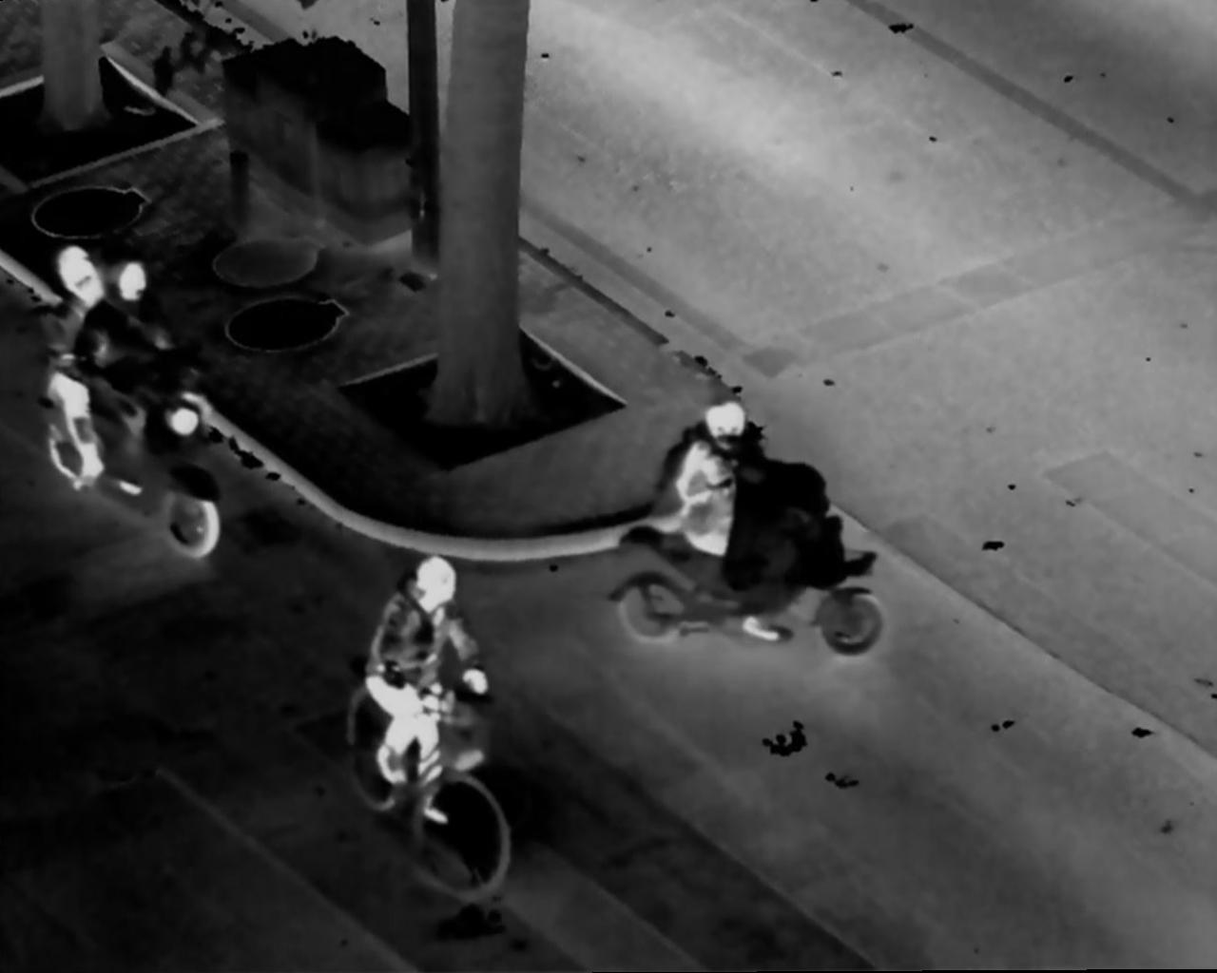person: (362, 550, 504, 824), (671, 400, 802, 621), (99, 265, 191, 487), (53, 240, 109, 485)
